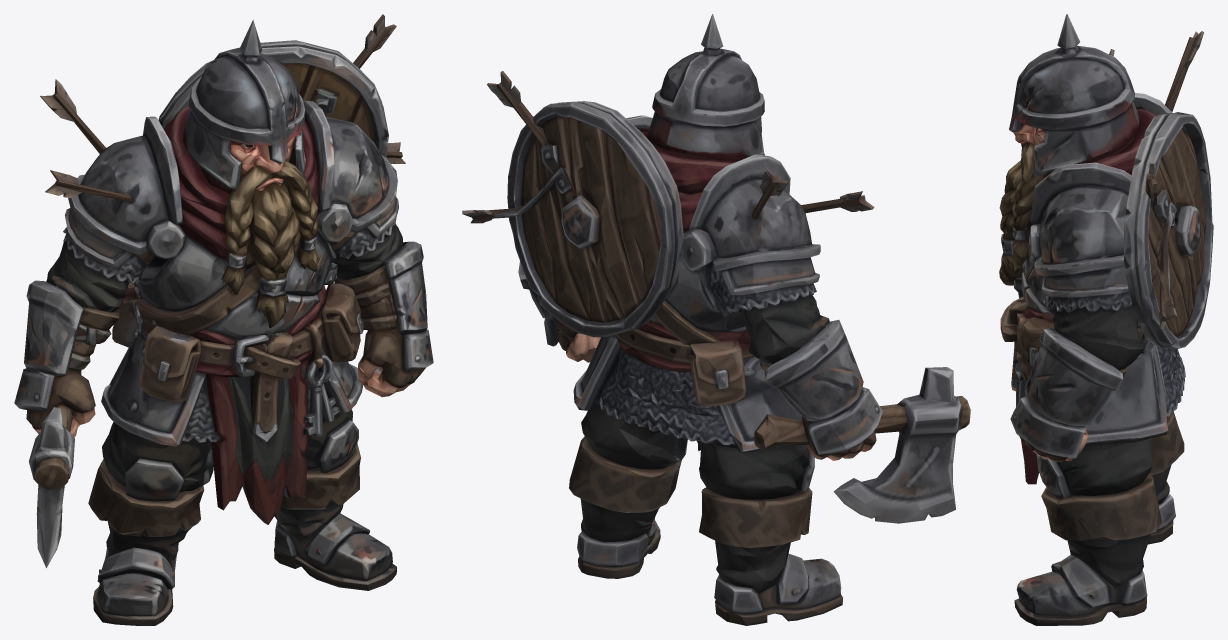
The model's file is dwarf_axe_pawn.glb.
3 renders of one model, left to right at view 1: azimuth 30°, elevation 25°; view 2: azimuth 150°, elevation 25°; view 3: azimuth 270°, elevation 25°, orthographic. The views are drawn at different scales.
Visible parts, largest first — view 1: Mesh_0; view 2: Mesh_0; view 3: Mesh_0.
Boxes of the visible parts, x1,y1,x2,y2 form: Mesh_0: [14, 14, 433, 625]; Mesh_0: [462, 14, 970, 625]; Mesh_0: [999, 14, 1213, 625].
Size of the model in its own units: 1.55 by 1.9 by 0.6681.
Materials: 1 (1 with a texture image).
